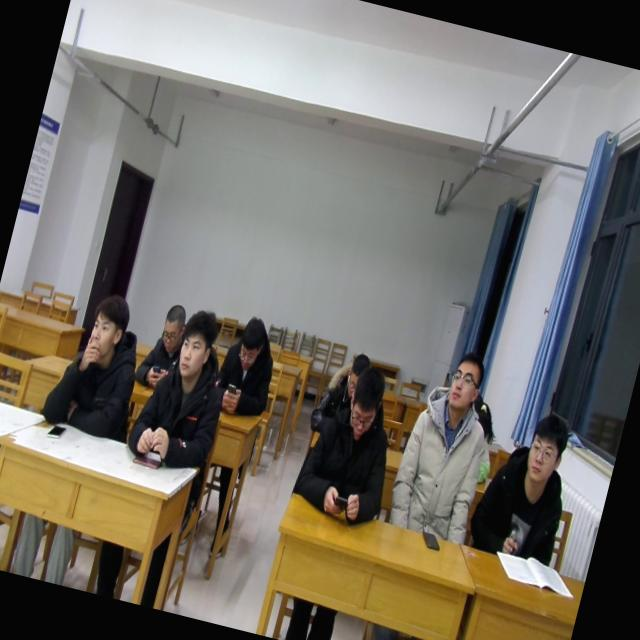bow: (306, 344, 376, 443), (132, 296, 195, 393)
down: (340, 358, 390, 446), (230, 310, 272, 375), (154, 299, 188, 352), (338, 346, 372, 396)
lookup: (166, 298, 224, 390), (514, 404, 576, 490), (77, 288, 135, 369), (436, 346, 489, 418)
sit: (382, 340, 510, 548), (287, 352, 415, 530), (121, 296, 247, 476), (462, 395, 588, 569), (36, 282, 159, 446), (208, 310, 286, 424)
